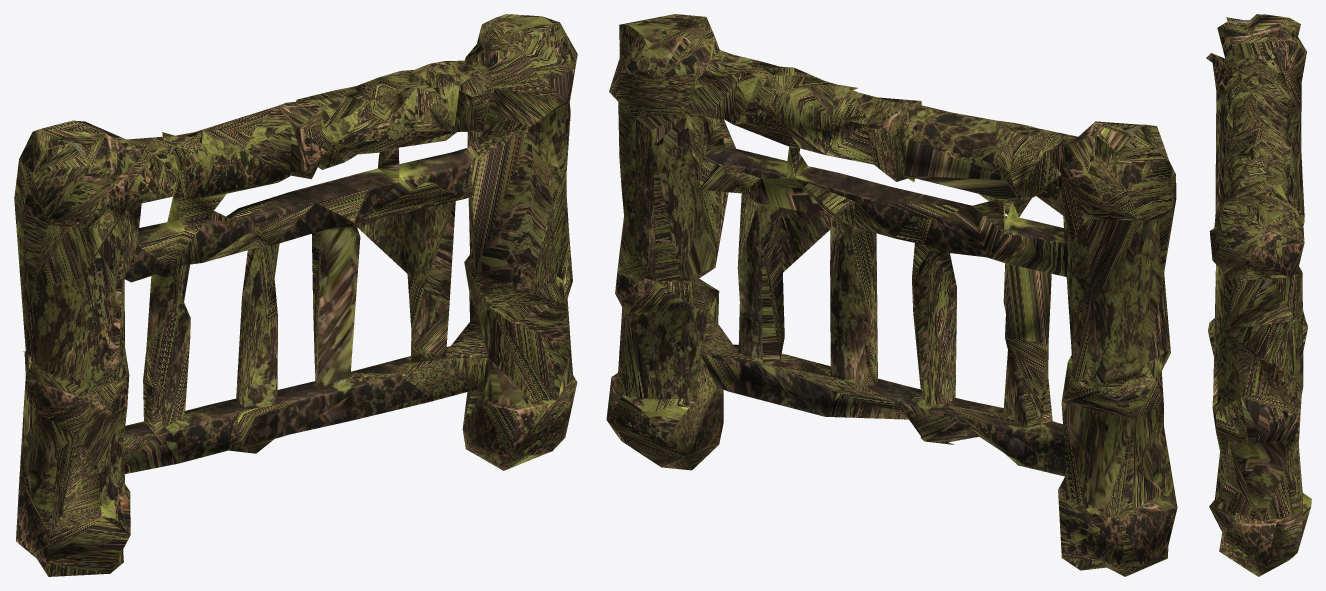
The model's file is prison-railing.glb.
The picture shows the model from 3 angles, left to right: view 1: azimuth 30°, elevation 25°; view 2: azimuth 150°, elevation 25°; view 3: azimuth 270°, elevation 25°; orthographic projection. The views are drawn at different scales.
Bounding box in the file's own units: 2 × 1.49 × 0.3967.
Materials: 1 (1 with a texture image).
